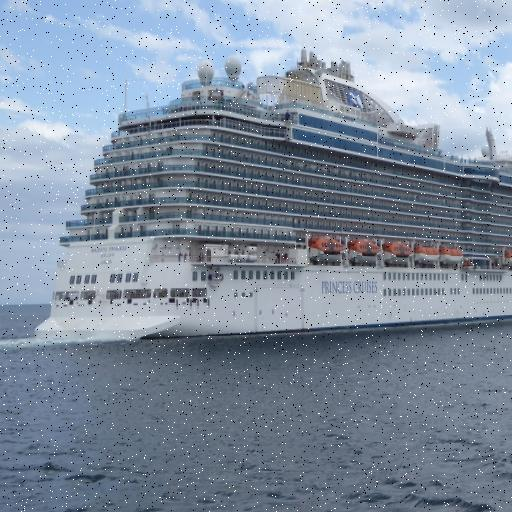cruises: (32, 20, 512, 343)
